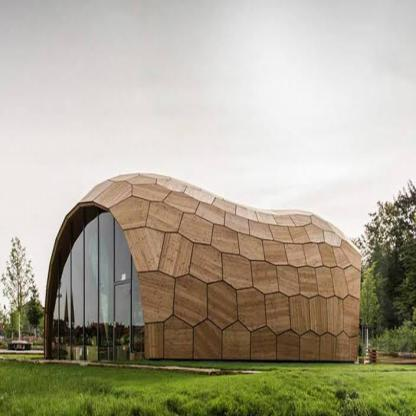Building Outline: (44, 171, 361, 364)
Door: (114, 282, 130, 363)
Facade: (47, 255, 131, 363)
Glass Wall: (47, 207, 144, 365)
